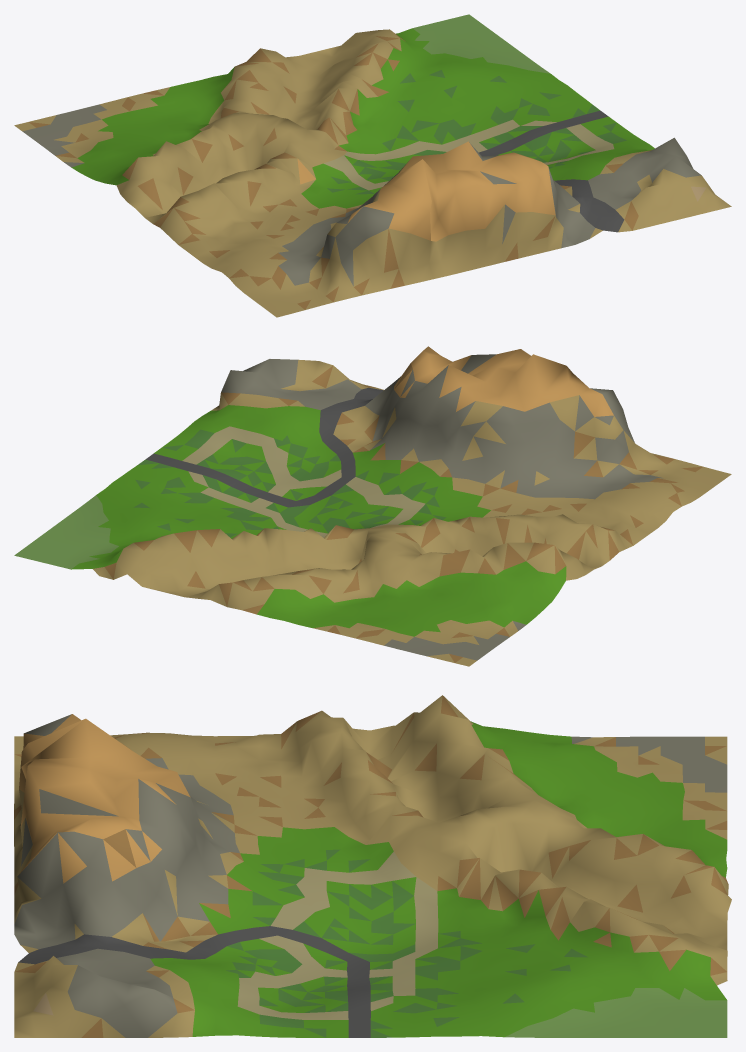
Rendered from BasegroundsII.fbx.
The picture shows the model from 3 angles, top to bottom: view 1: azimuth 30°, elevation 25°; view 2: azimuth 150°, elevation 25°; view 3: azimuth 270°, elevation 25°; orthographic projection. The views are drawn at different scales.
Visible parts, largest first — view 1: Plane; view 2: Plane; view 3: Plane.
Boxes of the visible parts, box(x1,y1,x2,y2) form: Plane: box(14, 14, 731, 317); Plane: box(14, 346, 731, 666); Plane: box(14, 695, 731, 1037).
Size of the model in its own units: 81427 by 20797 by 81558.
